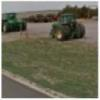tractors: (49, 14, 86, 40), (1, 12, 29, 34)
